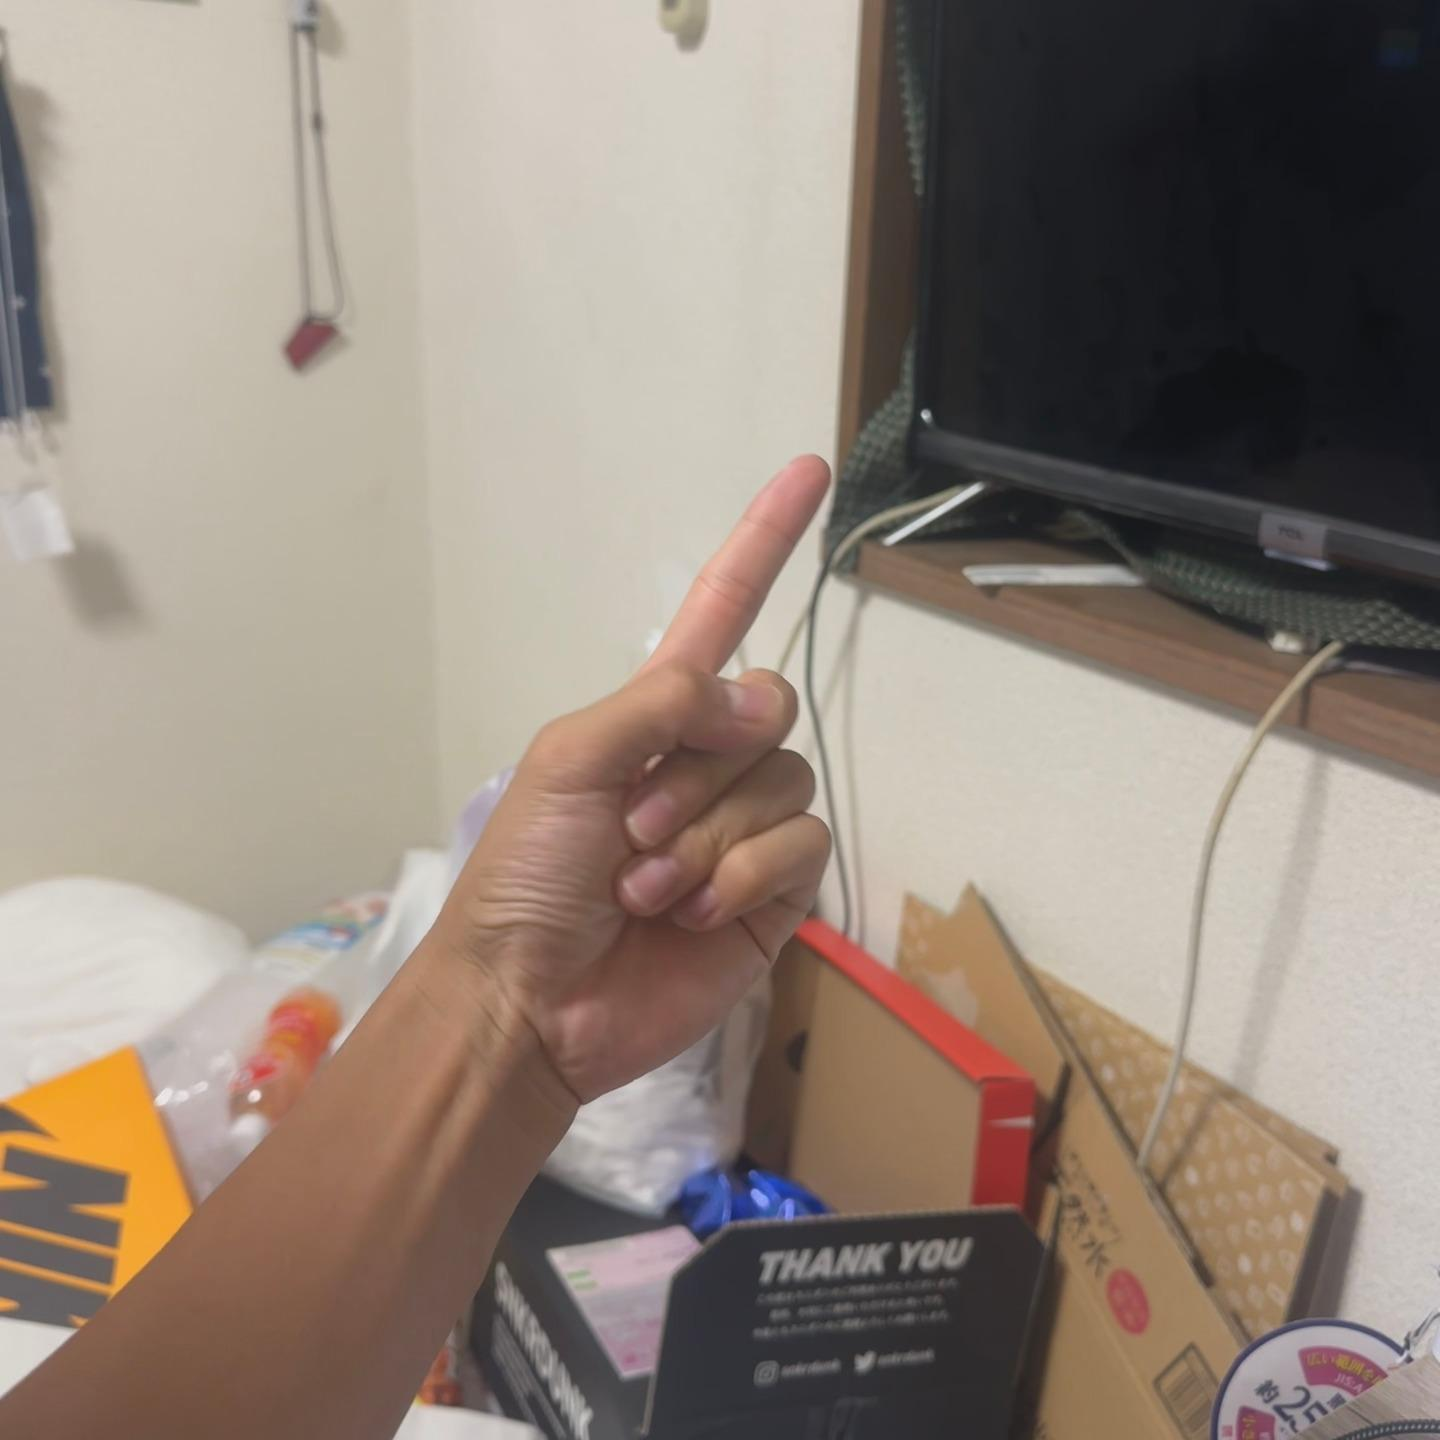without_gloves: (380, 323, 943, 1205)
